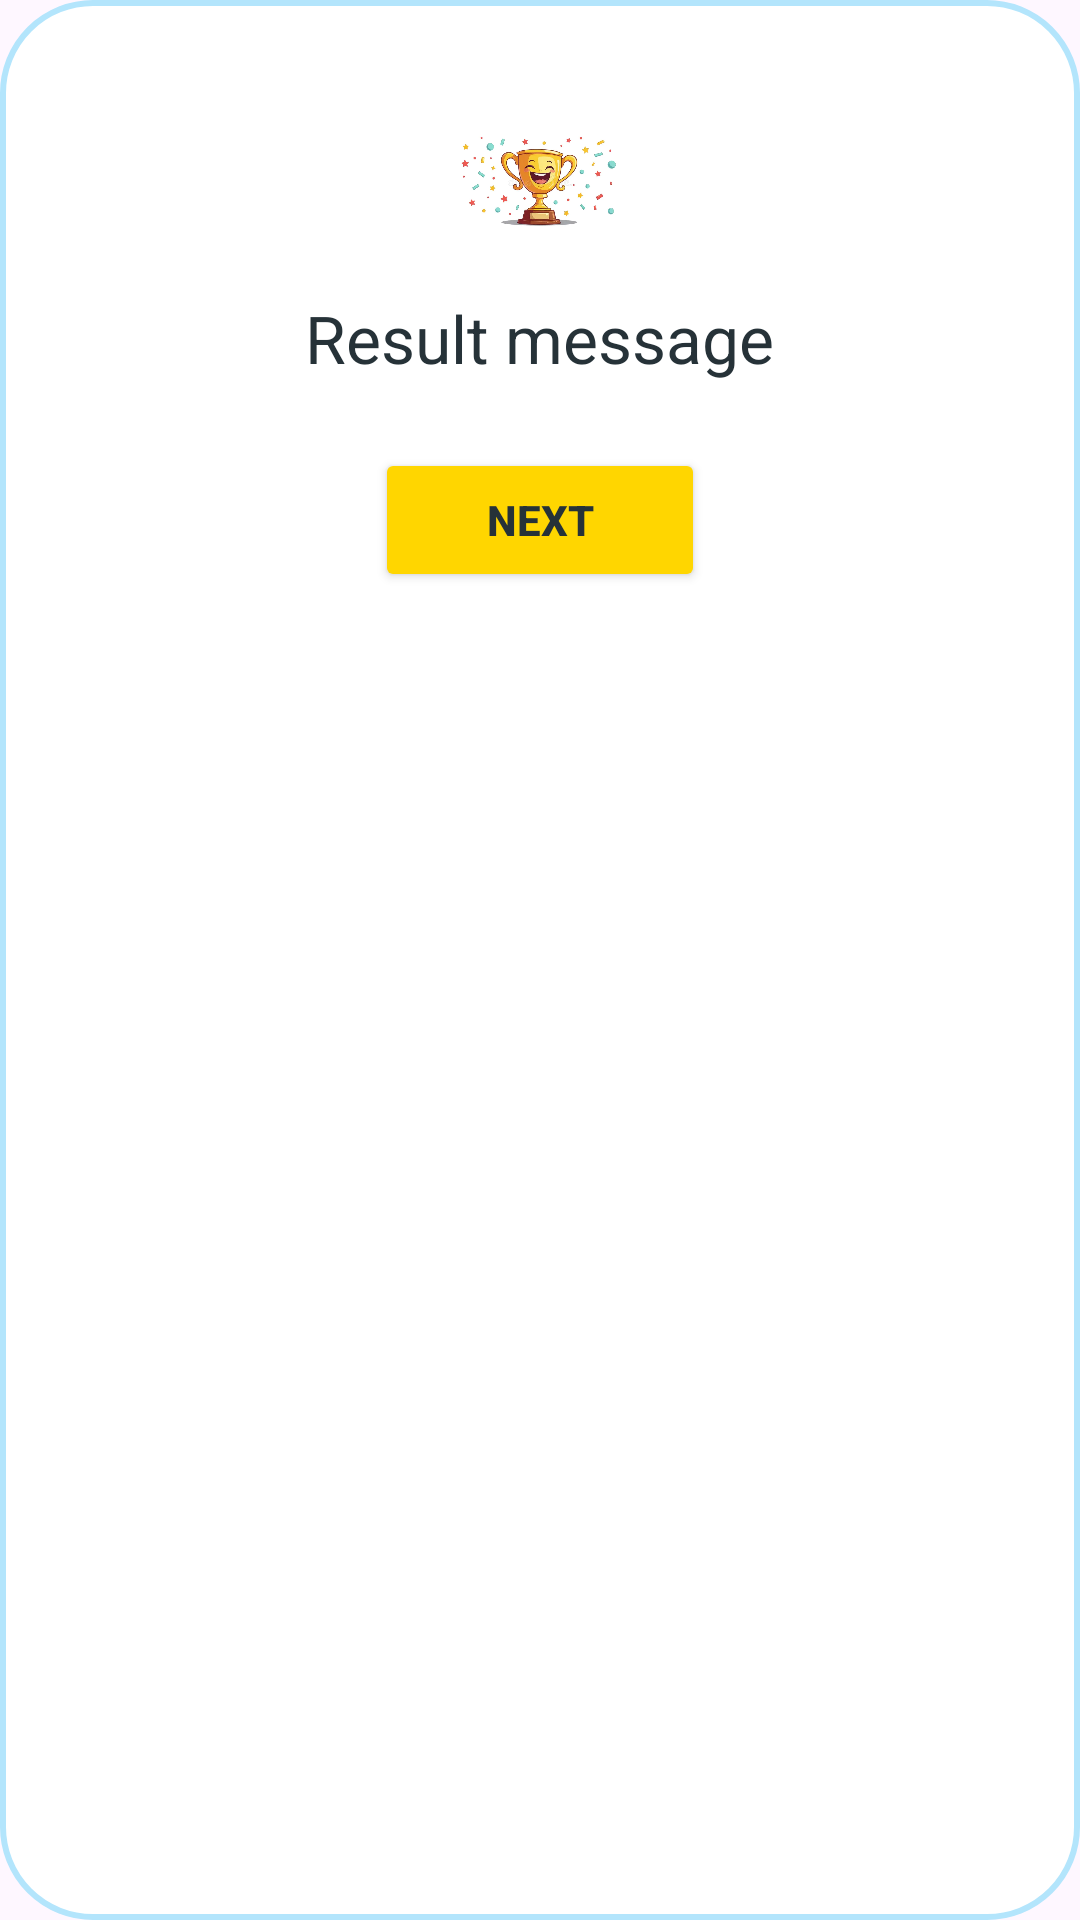

Icons on this 1080*1920 Android screen, each with its box as (x1, y1, x2, y2):
trophy: (462, 137, 616, 226)
